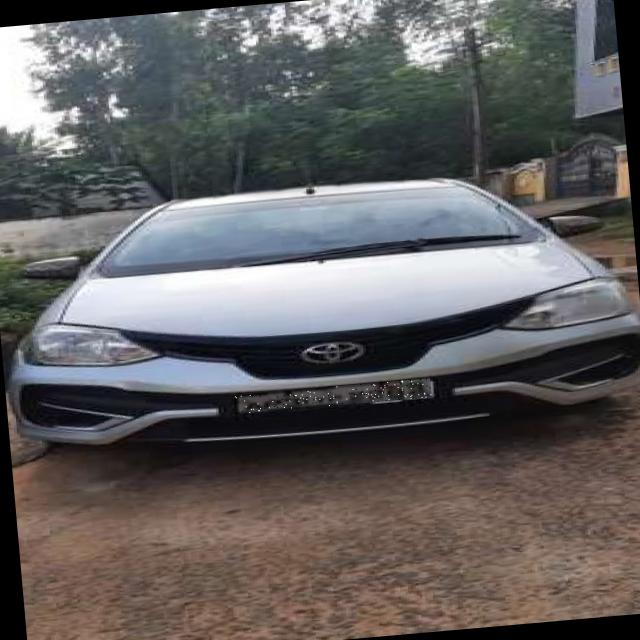Plate: (234, 379, 432, 415)
